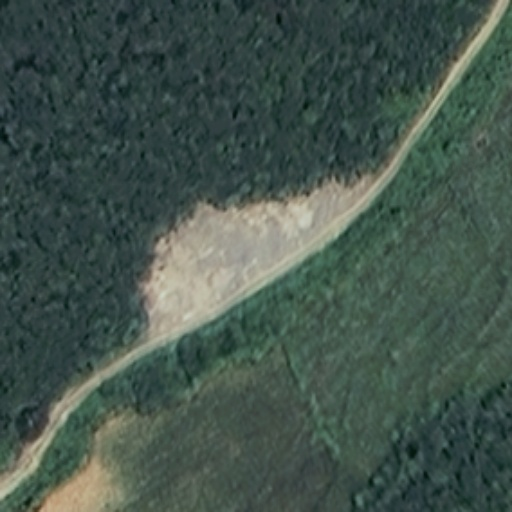landslide: (144, 176, 370, 338)
